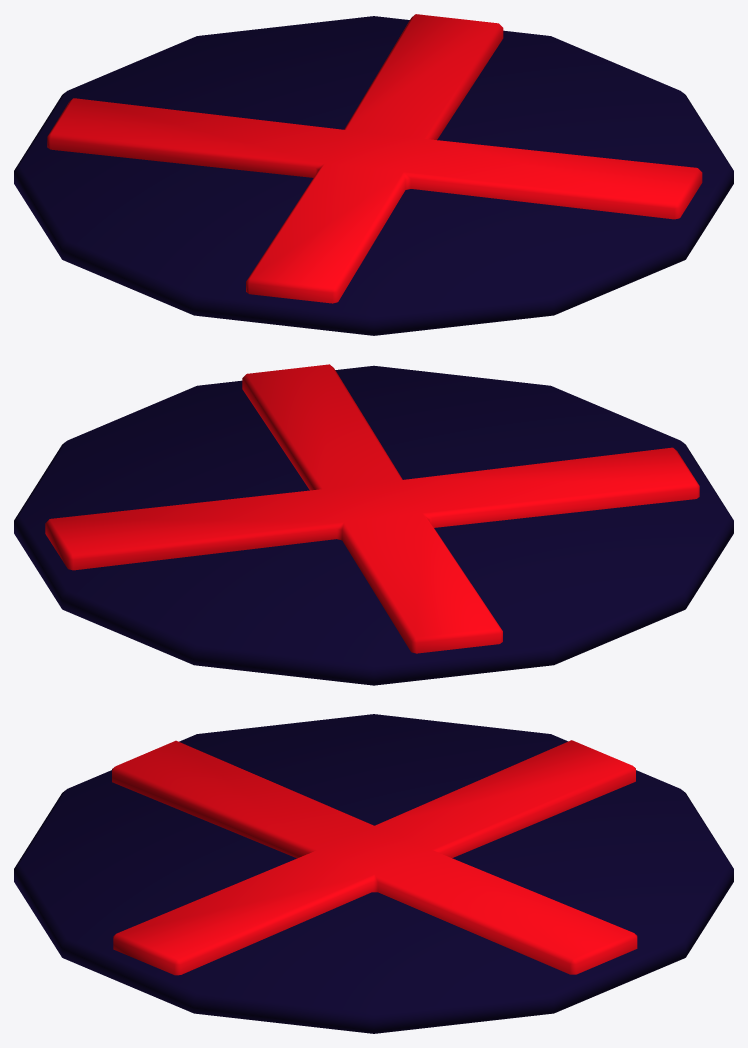
Rendered from force_top.fbx.
The picture shows the model from 3 angles, top to bottom: view 1: azimuth 30°, elevation 25°; view 2: azimuth 150°, elevation 25°; view 3: azimuth 270°, elevation 25°; orthographic projection.
Visible parts, largest first — view 1: force_top; view 2: force_top; view 3: force_top.
Part boxes in pixels (x1=…): force_top: x1=14, y1=14, x2=733, y2=335; force_top: x1=14, y1=364, x2=733, y2=685; force_top: x1=14, y1=714, x2=733, y2=1033.
Bounding box in the file's own units: 340 × 16.98 × 340.
